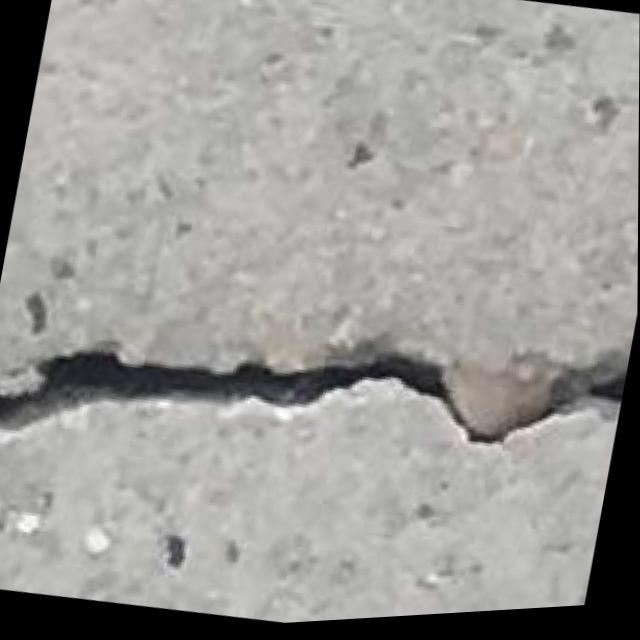Crack: (0, 254, 630, 560)
